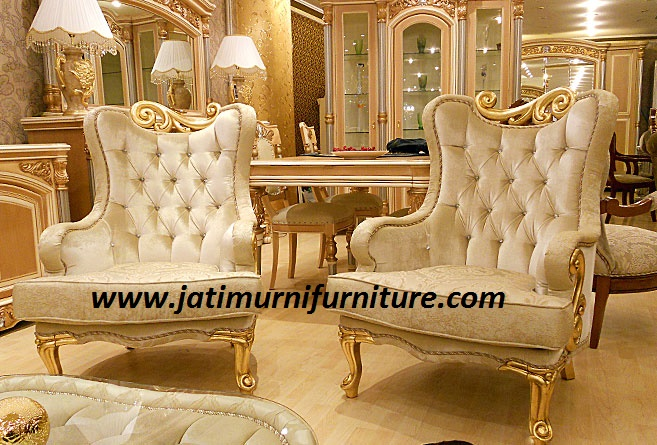Carving Chair: (332, 96, 599, 430), (35, 98, 276, 376)
